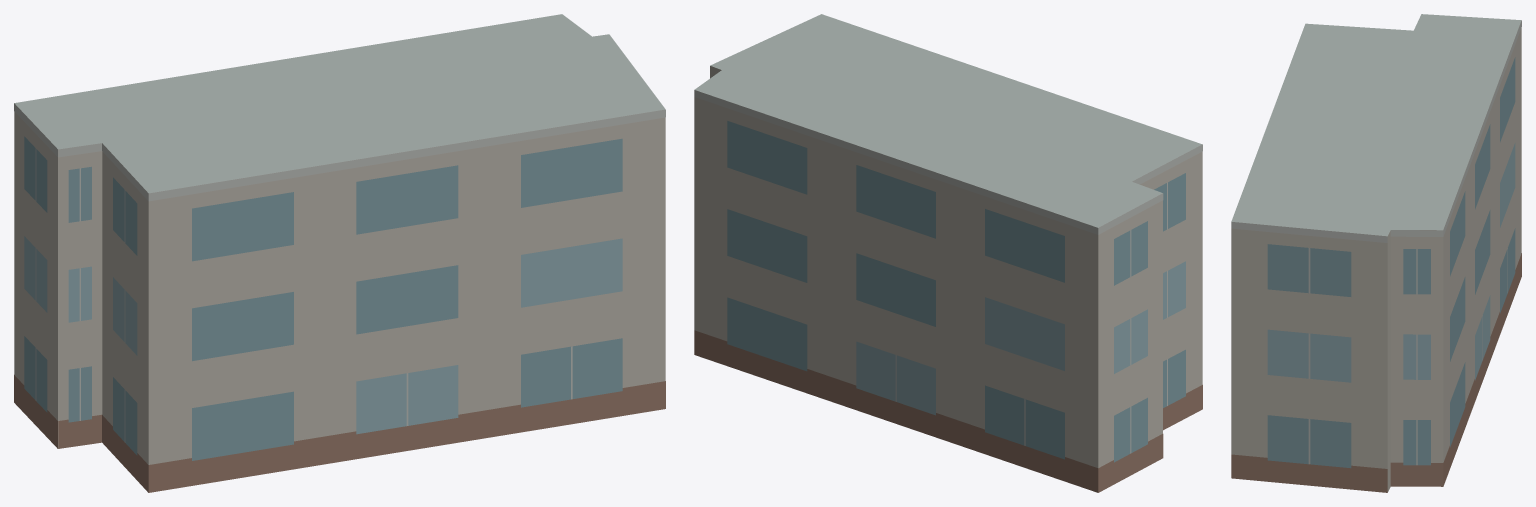
File: survey-upis-32693550.glb
The picture shows the model from 3 angles, left to right: view 1: azimuth 30°, elevation 25°; view 2: azimuth 150°, elevation 25°; view 3: azimuth 270°, elevation 25°; orthographic projection. The views are drawn at different scales.
Visible parts, largest first — view 1: survey-upis-32693550.tmp; view 2: survey-upis-32693550.tmp; view 3: survey-upis-32693550.tmp.
Boxes of the visible parts, x1,y1,x2,y2 form: survey-upis-32693550.tmp: [14, 14, 665, 492]; survey-upis-32693550.tmp: [694, 14, 1202, 492]; survey-upis-32693550.tmp: [1231, 14, 1521, 492].
Size of the model in its own units: 17.01 by 9.15 by 9.4.
